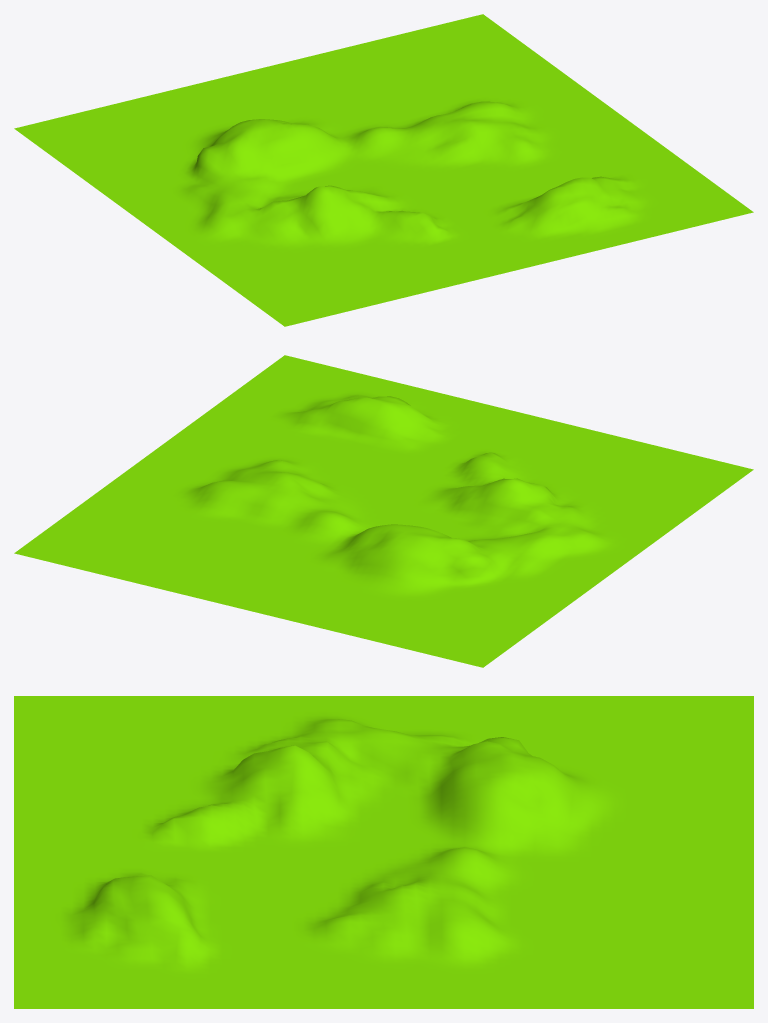
File: Terrain_Furry.fbx
3 renders of one model, top to bottom at view 1: azimuth 30°, elevation 25°; view 2: azimuth 150°, elevation 25°; view 3: azimuth 270°, elevation 25°, orthographic. The views are drawn at different scales.
Visible parts, largest first — view 1: Plane; view 2: Plane; view 3: Plane.
Part boxes in pixels (x1,y1,x2,y2): Plane: (14, 14, 753, 326); Plane: (14, 355, 753, 667); Plane: (14, 696, 753, 1008).
Size of the model in its own units: 2000 by 128 by 2000.
